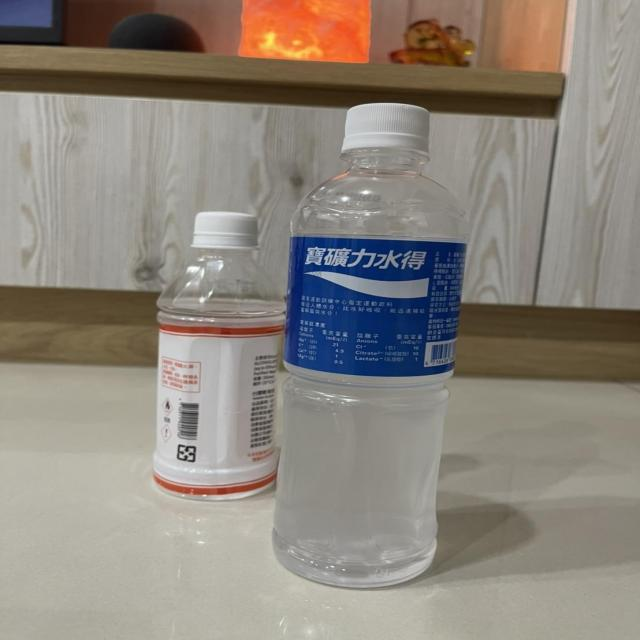bottle: (266, 95, 474, 594), (143, 208, 293, 507)
